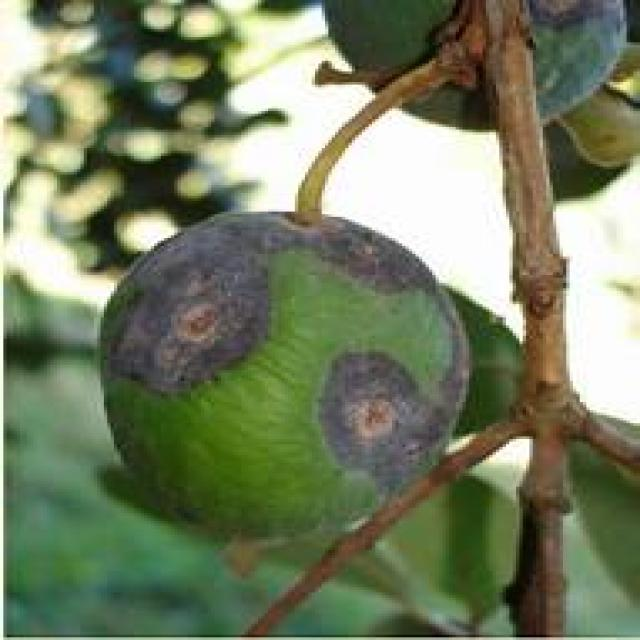Anthracnose: (104, 212, 462, 538)
